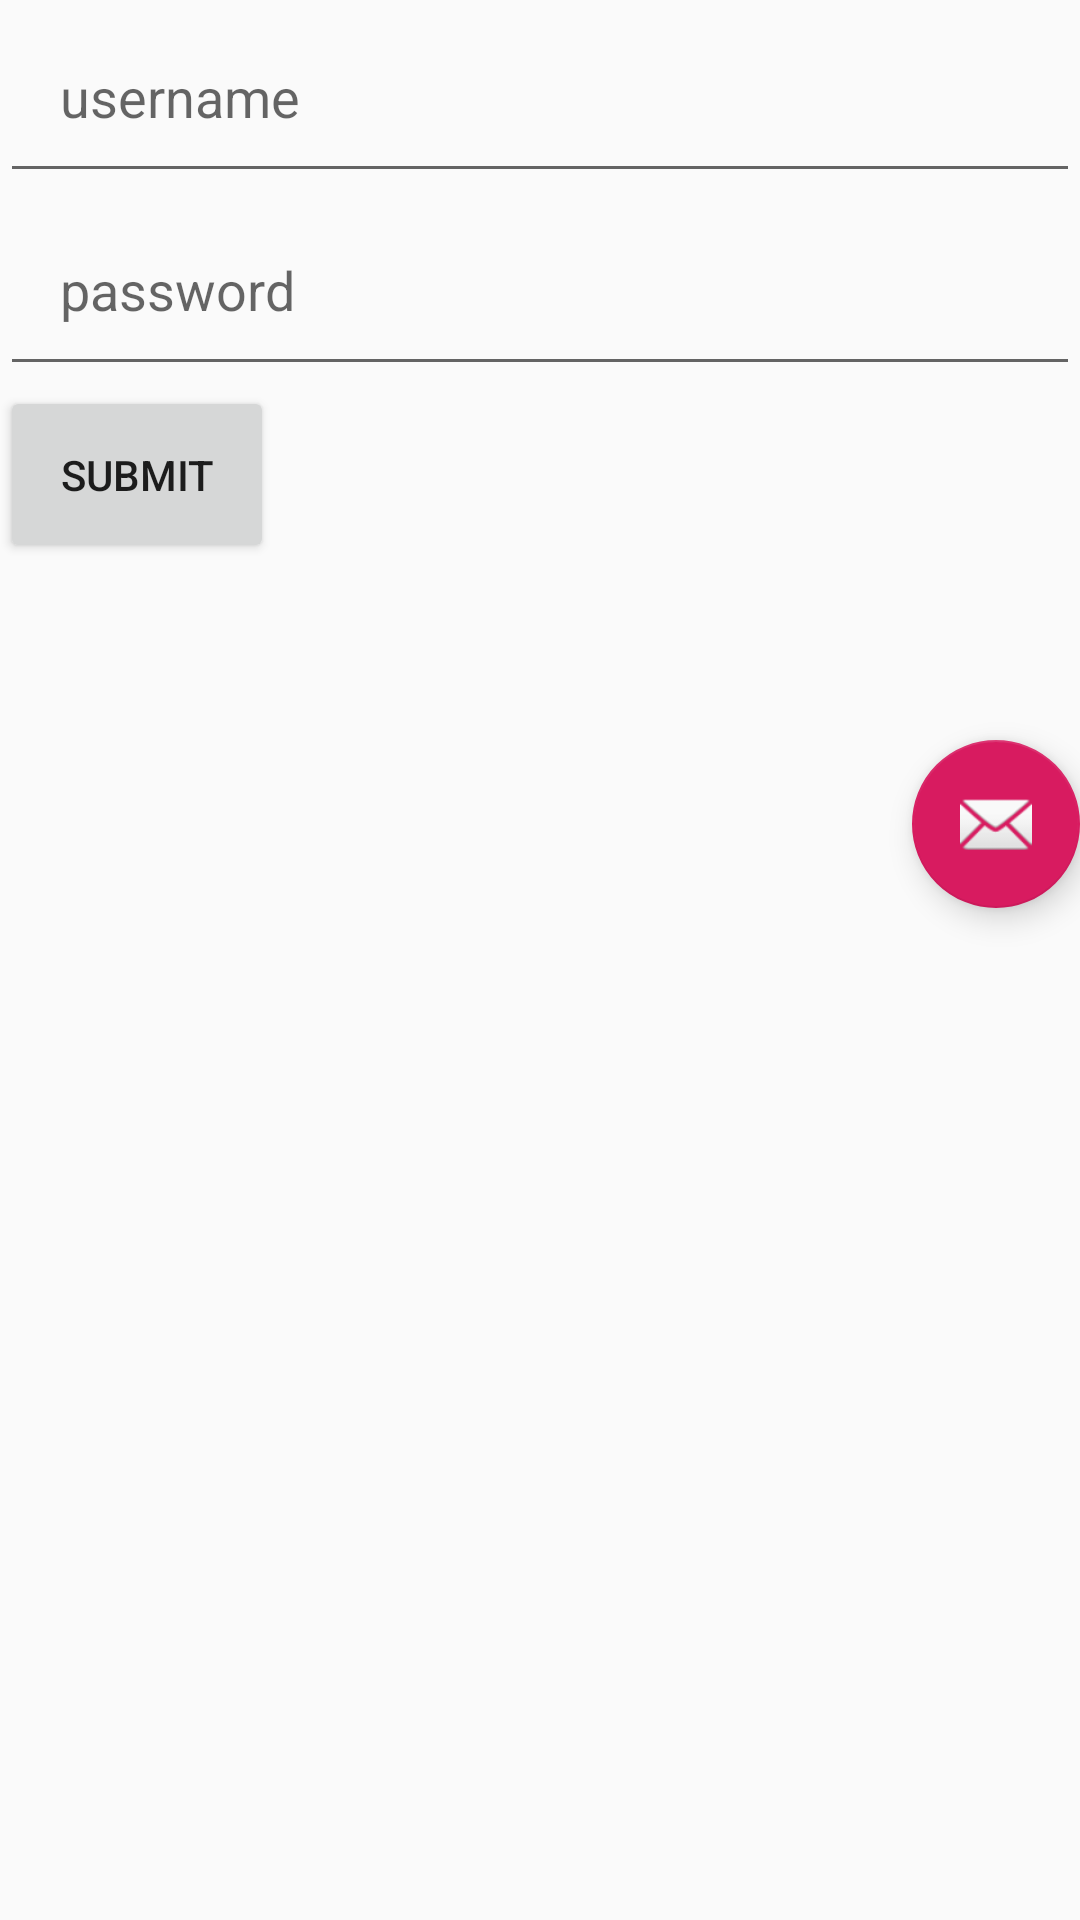

Screen size 1080w x 1920h. Icon name, then its center in pixels as (x=x, y=y):
email: (x=996, y=824)
